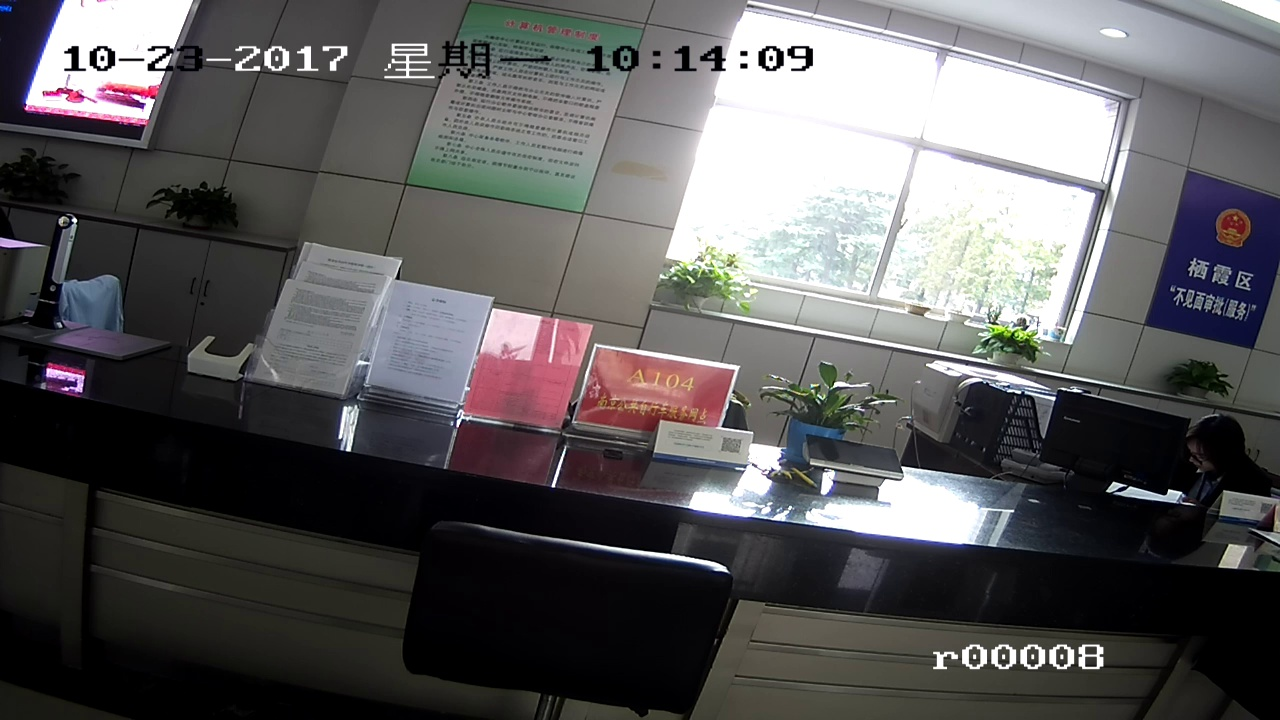billboard: (431, 16, 604, 237), (1171, 185, 1255, 353), (594, 355, 725, 449)
chair: (392, 519, 733, 696)
person: (1193, 412, 1262, 491)
pot: (785, 371, 891, 470), (153, 180, 253, 245), (652, 254, 750, 314), (981, 313, 1035, 375)
